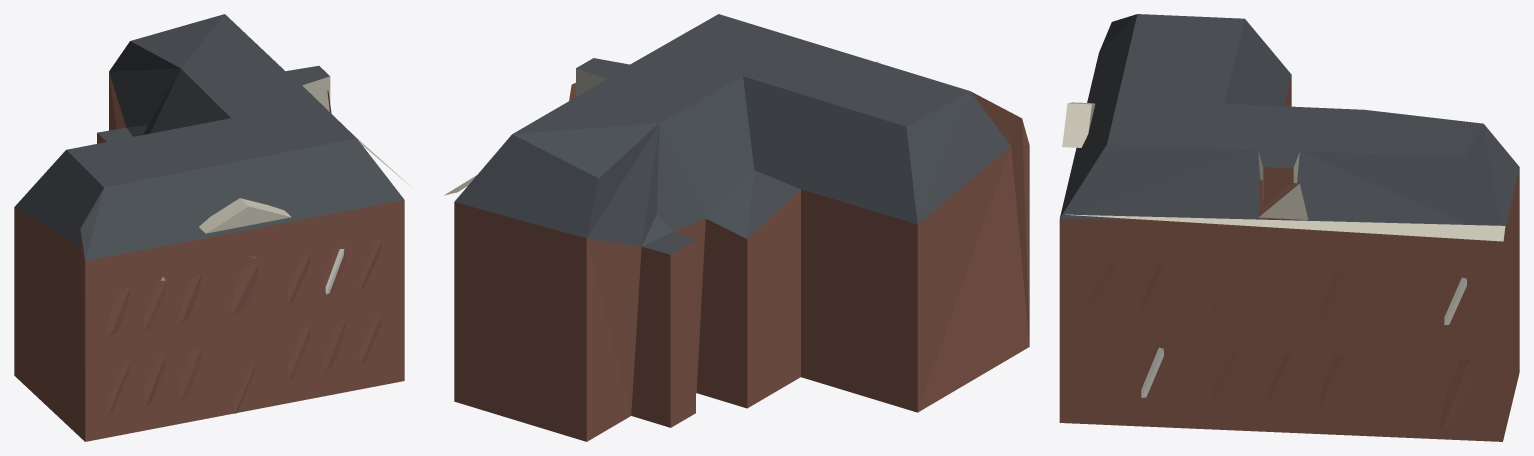
Rendered from muziekschool-jacob-van-campen.lod2.glb.
3 renders of one model, left to right at view 1: azimuth 30°, elevation 25°; view 2: azimuth 150°, elevation 25°; view 3: azimuth 270°, elevation 25°, orthographic. The views are drawn at different scales.
Visible parts, largest first — view 1: lod2; view 2: lod2; view 3: lod2.
Part boxes in pixels (x1,y1,x2,y2): lod2: [14, 14, 412, 441]; lod2: [444, 14, 1029, 441]; lod2: [1059, 14, 1519, 441].
Bounding box in the file's own units: 22.86 × 14.87 × 23.4.
